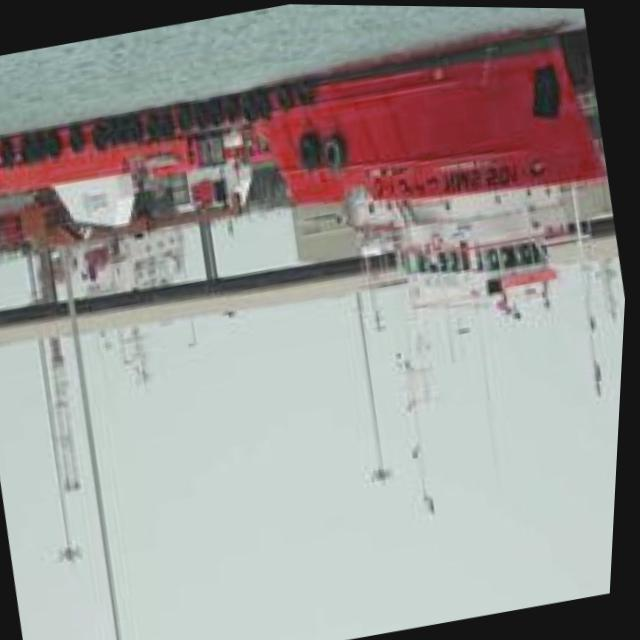ship2: (0, 29, 609, 319)
